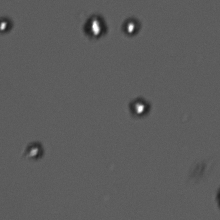Living Cell: (82, 13, 108, 40), (128, 96, 151, 118), (121, 16, 141, 36), (23, 142, 43, 160), (1, 18, 11, 34)
